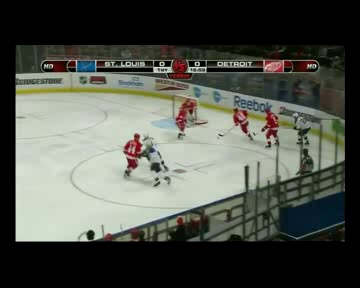normal: (215, 101, 285, 147)
